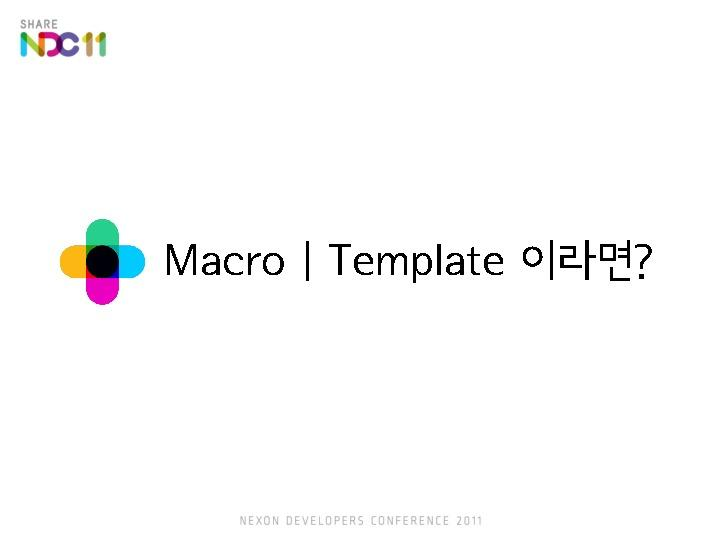title: (153, 200, 680, 314)
